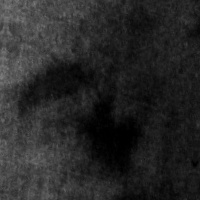patches: (74, 81, 153, 182), (15, 49, 105, 127)
